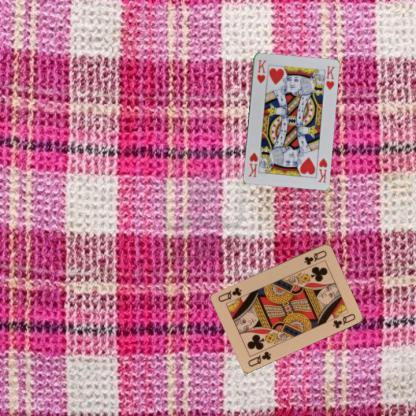Kh: (314, 155, 328, 184), (254, 58, 268, 84)
Qc: (301, 247, 328, 266), (245, 349, 272, 368)
